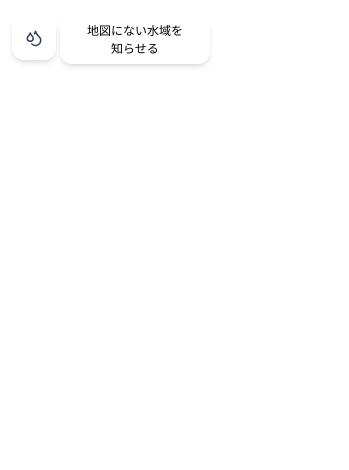
Test: 水域から選択・調査・情報提供 › 距離順の一覧を任意に開き、公開記録なし候補を選択して拡大する
This screenshot has width=349, height=470.
Later steps or results of the test are not shown.
Click the button named "近くの水域を探す" at (34, 38), box [12,16,56,60]
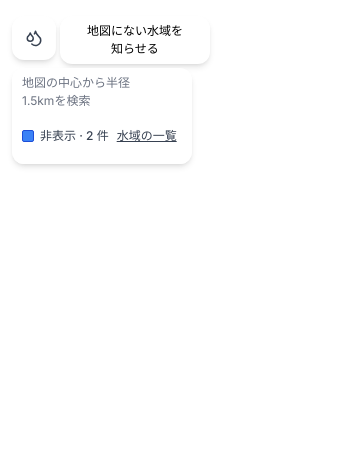
Check: the element "近くの水域" is not shown
Check: the button "水域の一覧" is shown
Click the button "水域の一覧" at (147, 136), box [117,114,177,158]
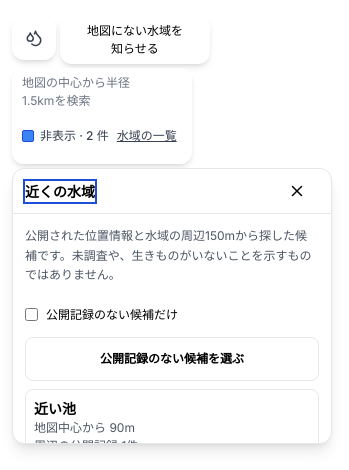
Click the checkbox labelled "公開記録のない候補だけ" at (32, 314), box [25,308,38,321]
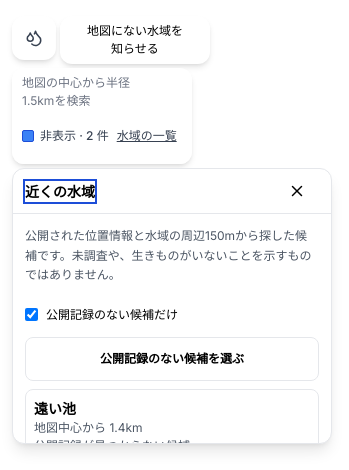
Check: the button "近い池" is gone
